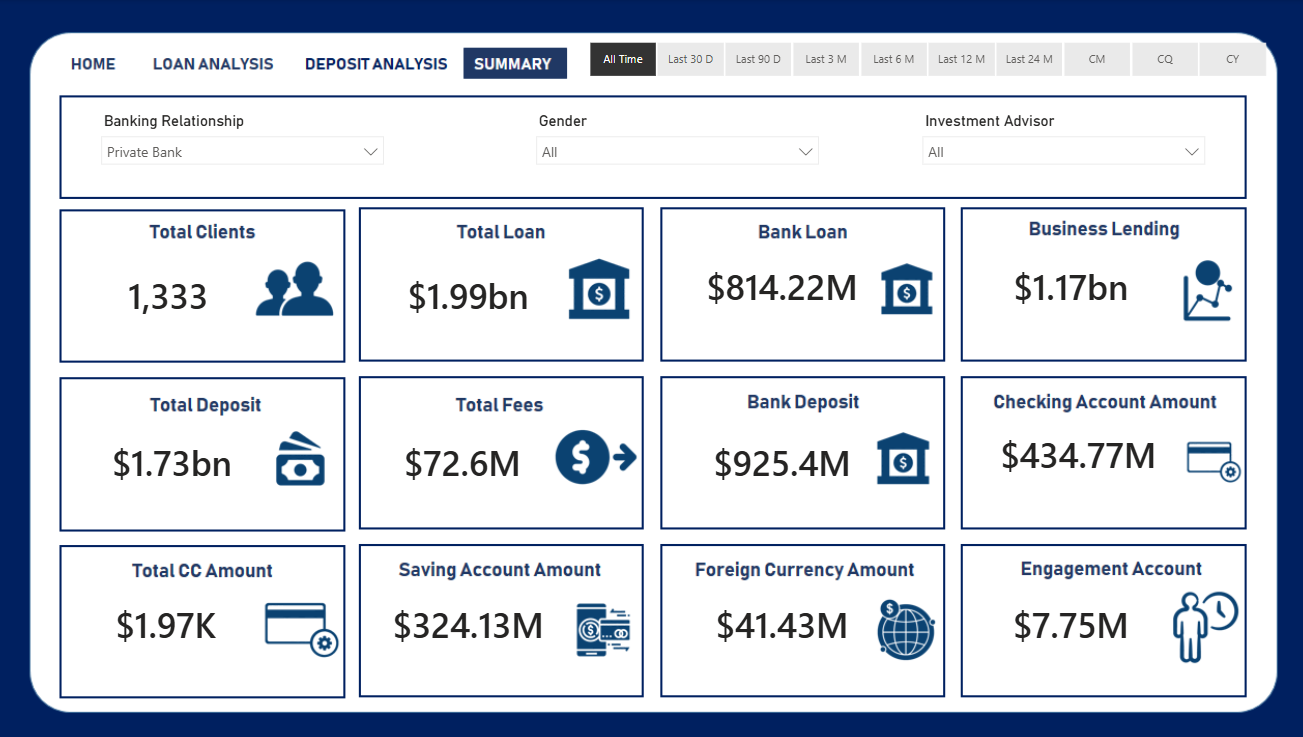

Layout of this report page (visuals, bound fields, positions):
{"tool":"powerbi","page":{"name":"Summary","canvas":[1280,720],"ordinal":3},"visuals":[{"type":"card","fields":{"Values":["DAX Measures.Engagment Length"]},"box":[946.3,546.4,198.2,114.9],"z":0},{"type":"card","fields":{"Values":["DAX Measures.Foreign Currency Account"]},"box":[667.2,546.4,198.2,114.9],"z":1000},{"type":"card","fields":{"Values":["DAX Measures.Bank Deposit"]},"box":[667.2,390.5,198.2,114.9],"z":2000},{"type":"card","fields":{"Values":["DAX Measures.Checking Accounts"]},"box":[953.4,382.3,198.2,114.9],"z":3000},{"type":"card","fields":{"Values":["DAX Measures.Bank Loan"]},"box":[667.2,220.5,198.2,114.9],"z":4000},{"type":"card","fields":{"Values":["DAX Measures.Business Lending"]},"box":[953.4,220.5,184.1,114.9],"z":5000},{"type":"card","fields":{"Values":["DAX Measures.Savings Account"]},"box":[360,546.4,207.6,114.9],"z":6000},{"type":"card","fields":{"Values":["DAX Measures.Total CC Amount"]},"box":[72.7,546.4,198.2,114.9],"z":7000},{"type":"card","fields":{"Values":["DAX Measures.Total Deposit"]},"box":[78.6,390.5,198.2,114.9],"z":8000},{"type":"card","fields":{"Values":["DAX Measures.Total Fees"]},"box":[365.9,390.5,184.1,114.9],"z":9000},{"type":"card","fields":{"Values":["DAX Measures.Total Clients"]},"box":[75,228.7,198.2,114.9],"z":10000},{"type":"card","fields":{"Values":["DAX Measures.Total Loan"]},"box":[365.9,228.7,195.8,114.9],"z":11000},{"type":"slicer","fields":{"Values":["Banking Relationship.Banking Relationship"]},"box":[98.5,104.3,292.9,75.7],"z":12000},{"type":"slicer","fields":{"Values":["Gender.Gender"]},"box":[518.9,104.3,292.9,75.7],"z":13000},{"type":"slicer","fields":{"Values":["Investment Advisor.Investment Advisor"]},"box":[891.3,104.3,292.9,75.7],"z":14000},{"type":"slicer","fields":{"Values":["Period.Name"]},"box":[555.2,34.6,702.1,46.6],"z":15000},{"type":"actionButton","box":[72.8,44.2,58.5,31],"z":16000},{"type":"actionButton","box":[306.9,44.7,119.4,31],"z":17000},{"type":"actionButton","box":[297.9,44.6,147.8,30.5],"z":18000},{"type":"actionButton","box":[157.1,44.6,125.5,30.5],"z":19000}]}

Visuals, with their boxes in screenshot pixels (x1, y1, x2, y2), scaled from the page's 1280x720 canvas onto the 1303x737 screenshot:
card - DAX Measures.Engagment Length: left=963, top=559, right=1165, bottom=677
card - DAX Measures.Foreign Currency Account: left=679, top=559, right=881, bottom=677
card - DAX Measures.Bank Deposit: left=679, top=400, right=881, bottom=517
card - DAX Measures.Checking Accounts: left=971, top=391, right=1172, bottom=509
card - DAX Measures.Bank Loan: left=679, top=226, right=881, bottom=343
card - DAX Measures.Business Lending: left=971, top=226, right=1158, bottom=343
card - DAX Measures.Savings Account: left=366, top=559, right=578, bottom=677
card - DAX Measures.Total CC Amount: left=74, top=559, right=276, bottom=677
card - DAX Measures.Total Deposit: left=80, top=400, right=282, bottom=517
card - DAX Measures.Total Fees: left=372, top=400, right=560, bottom=517
card - DAX Measures.Total Clients: left=76, top=234, right=278, bottom=352
card - DAX Measures.Total Loan: left=372, top=234, right=572, bottom=352
slicer - Banking Relationship.Banking Relationship: left=100, top=107, right=398, bottom=184
slicer - Gender.Gender: left=528, top=107, right=826, bottom=184
slicer - Investment Advisor.Investment Advisor: left=907, top=107, right=1205, bottom=184
slicer - Period.Name: left=565, top=35, right=1280, bottom=83
actionButton: left=74, top=45, right=134, bottom=77
actionButton: left=312, top=46, right=434, bottom=77
actionButton: left=303, top=46, right=454, bottom=77
actionButton: left=160, top=46, right=288, bottom=77
